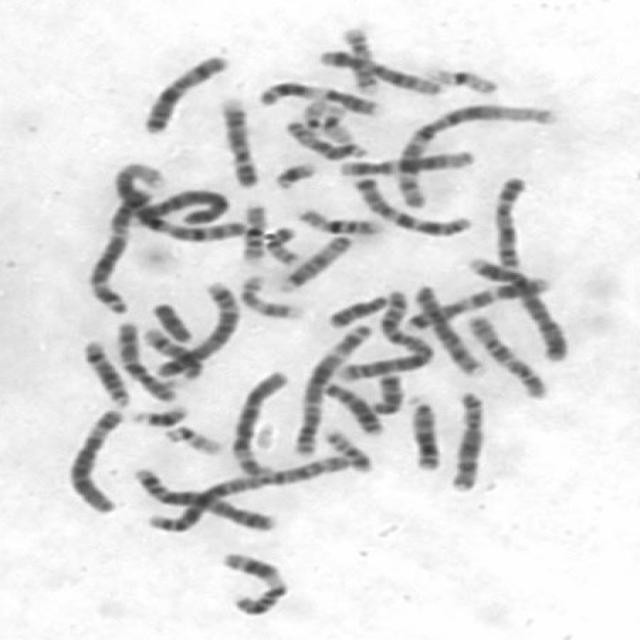A1: (390, 99, 562, 209), (108, 156, 245, 244)
A2: (138, 450, 354, 535), (334, 286, 437, 382)
A3: (287, 319, 373, 457), (80, 183, 154, 315)
B4: (463, 252, 572, 363), (130, 185, 230, 229)
B5: (128, 463, 281, 533), (146, 275, 244, 379)
C10: (461, 311, 552, 402), (111, 317, 180, 403)
C11: (250, 75, 382, 118), (213, 547, 292, 617)
C12: (312, 45, 447, 96), (332, 144, 478, 178)
C6: (58, 403, 131, 516), (224, 363, 295, 479)
C7: (399, 274, 553, 333), (346, 171, 476, 237)
C8: (410, 279, 488, 376), (444, 386, 488, 494)
C9: (212, 92, 262, 189), (487, 172, 529, 272)
D13: (316, 377, 388, 437), (403, 390, 444, 472)
D14: (76, 335, 134, 408), (139, 323, 207, 380)
D15: (274, 230, 356, 293), (277, 116, 370, 162)
E16: (291, 204, 386, 237), (234, 199, 267, 263)
E17: (234, 271, 307, 321), (336, 22, 381, 95)
E18: (322, 290, 390, 330), (365, 369, 406, 416)
F19: (420, 62, 501, 96), (312, 96, 356, 144)
F20: (318, 424, 375, 474), (260, 223, 302, 267)
G21: (124, 400, 192, 427), (268, 158, 319, 190)
G22: (159, 420, 224, 456), (298, 95, 332, 131)
X: (135, 49, 230, 136)
Y: (146, 300, 194, 344)
